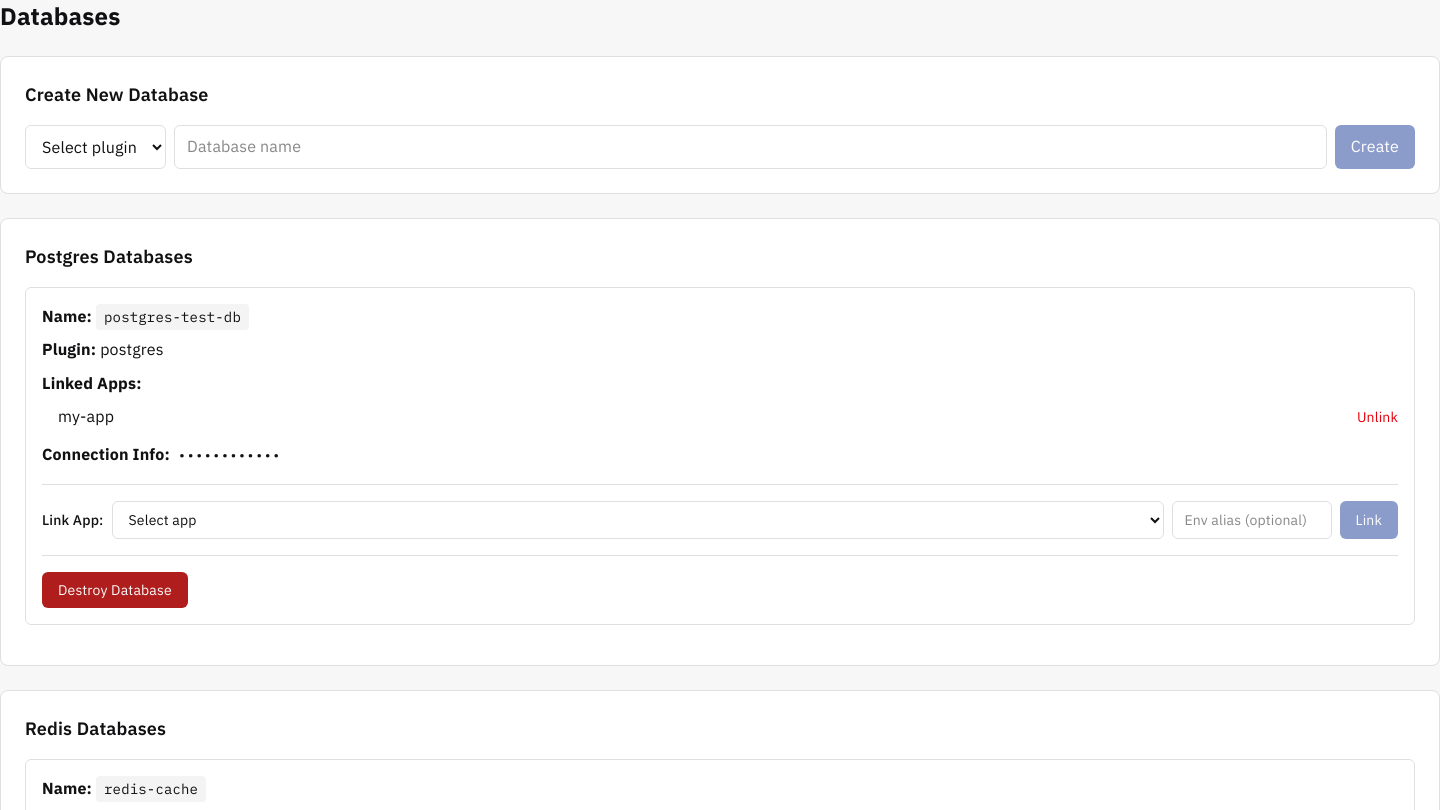
Databases › should open destroy confirmation dialog
Step 1. Click the button "Destroy Database" → (115, 590), box [42,572,188,608]
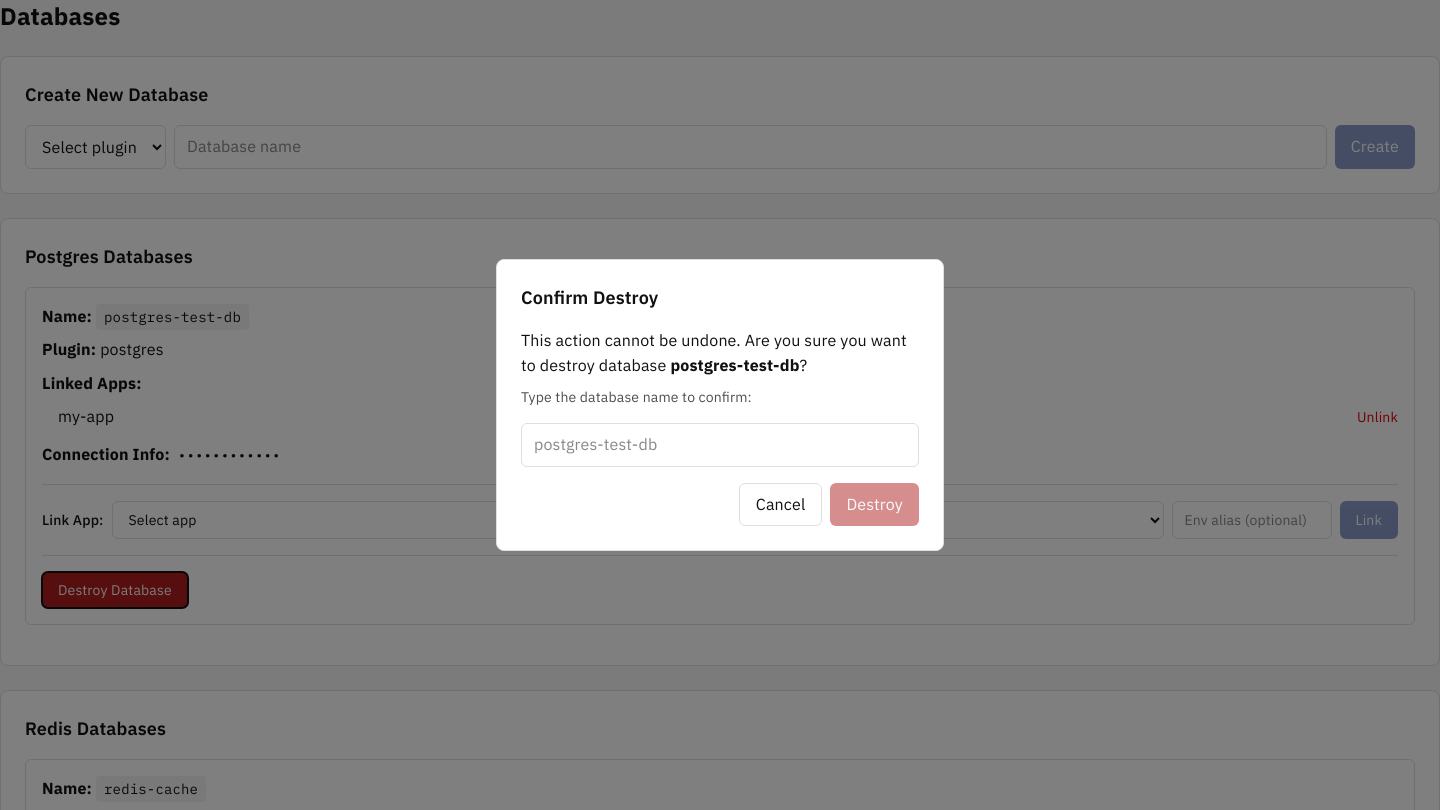
Check: the heading "Confirm Destroy" is shown, box [521,286,658,309]
